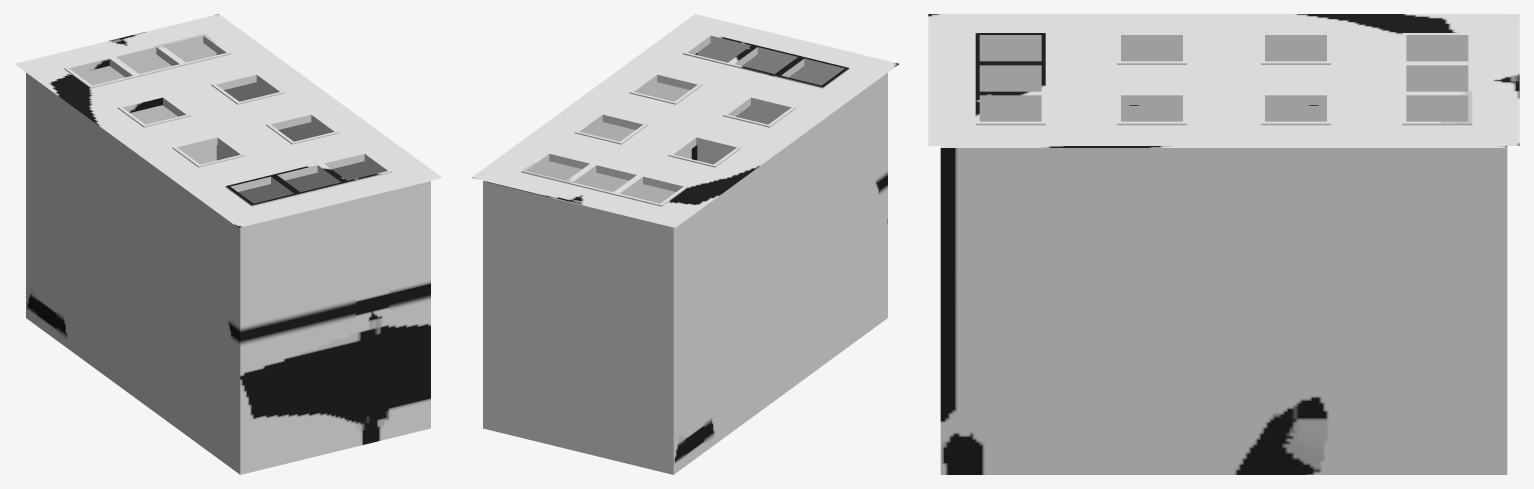
The model's file is WallRoof.FBX.
3 renders of one model, left to right at view 1: azimuth 30°, elevation 25°; view 2: azimuth 150°, elevation 25°; view 3: azimuth 270°, elevation 25°, orthographic. The views are drawn at different scales.
Parts seen in each view (by area): view 1: Object042; view 2: Object042; view 3: Object042.
Boxes of the visible parts, bbox=[...] form: Object042: bbox=[15, 14, 442, 474]; Object042: bbox=[471, 14, 898, 474]; Object042: bbox=[928, 14, 1519, 474].
Bounding box in the file's own units: 25.96 × 30.76 × 49.18.
